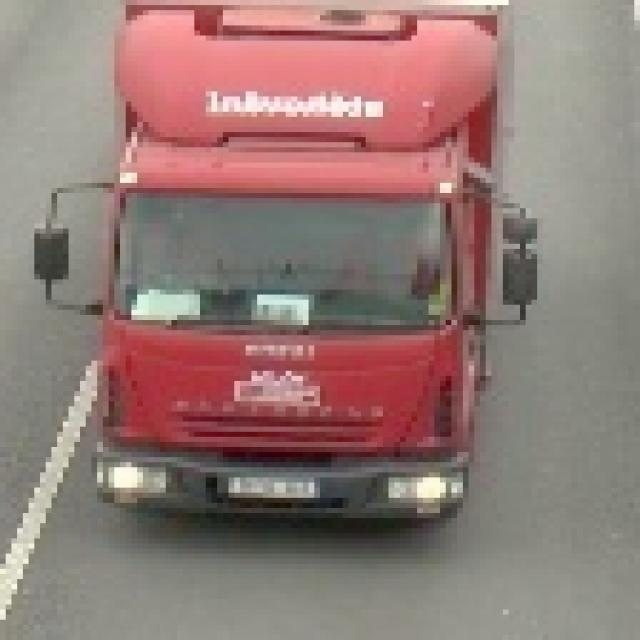truck: (30, 1, 538, 524)
